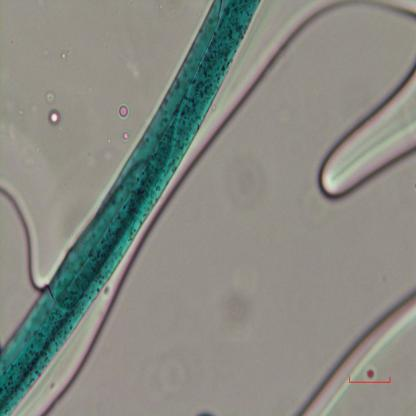Air bubble: (25, 265, 132, 414), (314, 56, 416, 206), (296, 289, 416, 416), (0, 182, 42, 346), (369, 0, 416, 22), (47, 111, 60, 126), (118, 104, 129, 119)
Background material: (227, 0, 340, 126), (208, 235, 254, 332), (42, 90, 56, 105), (120, 131, 131, 144)
Microfibre: (0, 0, 262, 416)
